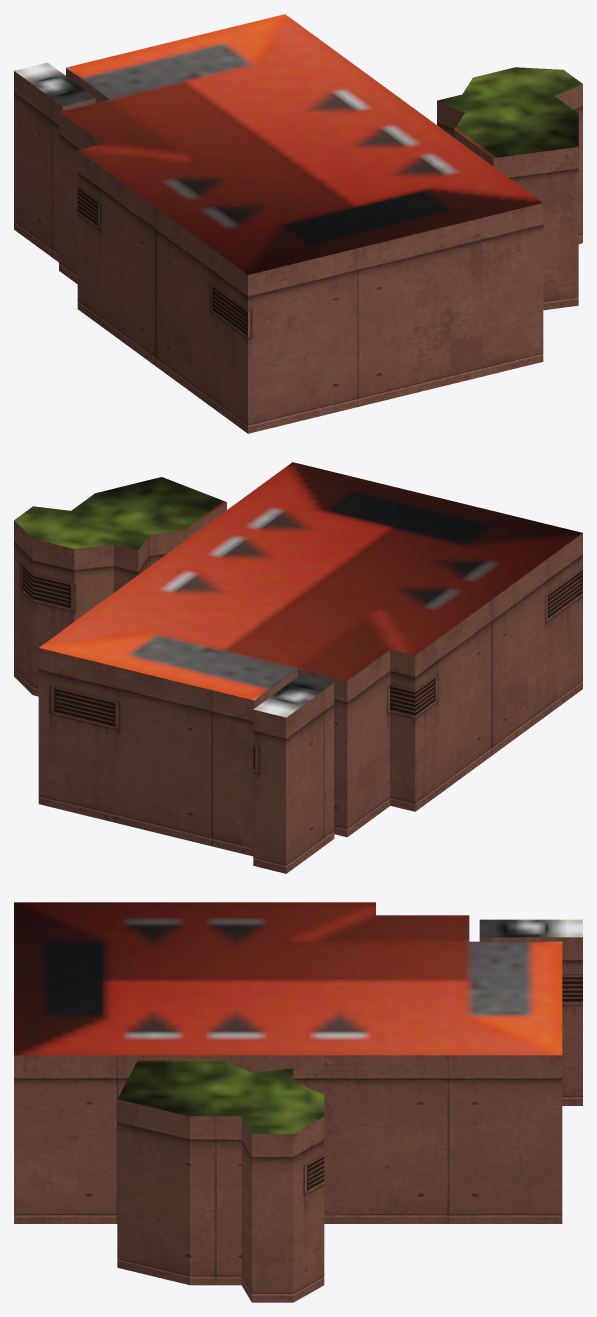
File: BuildingSystem-02-Intermediate-02-Medium-3-40.glb
3 renders of one model, top to bottom at view 1: azimuth 30°, elevation 25°; view 2: azimuth 150°, elevation 25°; view 3: azimuth 270°, elevation 25°, orthographic. The views are drawn at different scales.
Visible parts, largest first — view 1: buildings/saxarba/SMV_Buildings/BuildingSystem-02-Intermedia; view 2: buildings/saxarba/SMV_Buildings/BuildingSystem-02-Intermedia; view 3: buildings/saxarba/SMV_Buildings/BuildingSystem-02-Intermedia.
Boxes of the visible parts, x1=… form: buildings/saxarba/SMV_Buildings/BuildingSystem-02-Intermedia: x1=14, y1=14, x2=582, y2=433; buildings/saxarba/SMV_Buildings/BuildingSystem-02-Intermedia: x1=14, y1=462, x2=582, y2=873; buildings/saxarba/SMV_Buildings/BuildingSystem-02-Intermedia: x1=14, y1=902, x2=582, y2=1302.
Size of the model in its own units: 53 by 18 by 55.
